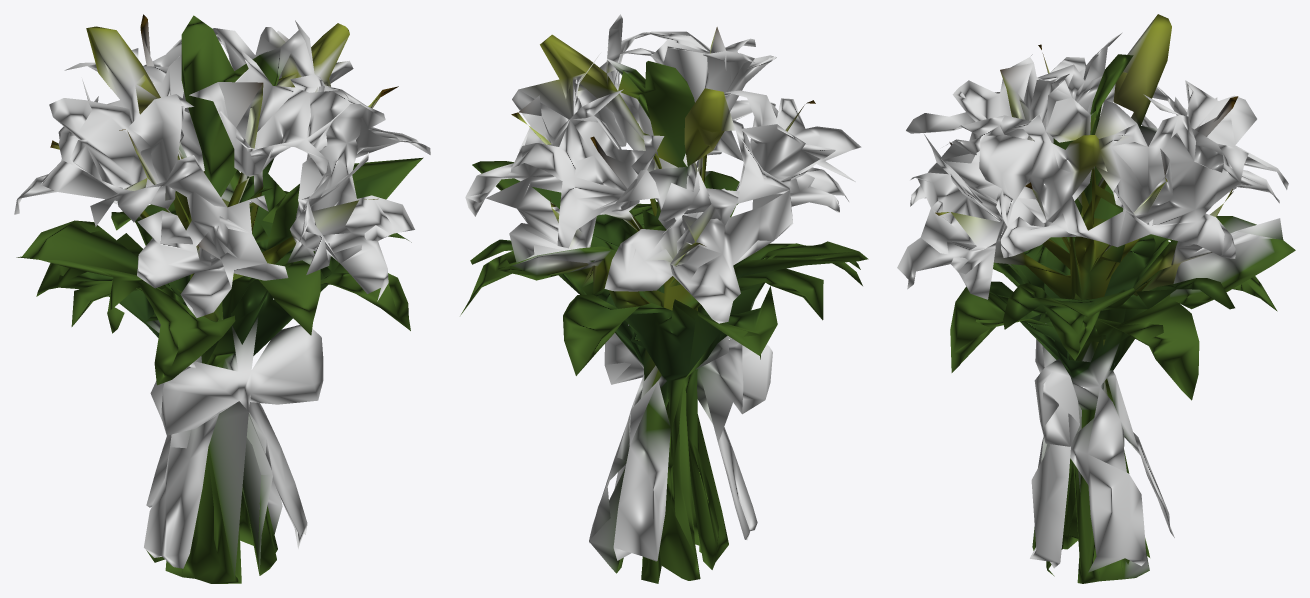
File: gen3d-lily-bouquet-lod0.glb
3 views of the same model, side by side, from view 1: azimuth 30°, elevation 25°; view 2: azimuth 150°, elevation 25°; view 3: azimuth 270°, elevation 25° (orthographic). The views are drawn at different scales.
Visible parts, largest first — view 1: part_0; view 2: part_0; view 3: part_0.
Part boxes in pixels (left/top/right/bottom): part_0: left=14, top=14, right=430, bottom=583; part_0: left=460, top=14, right=868, bottom=583; part_0: left=897, top=14, right=1295, bottom=583.
Size of the model in its own units: 0.7908 by 0.9944 by 0.7027.
